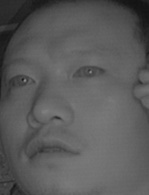eye: (70, 61, 105, 82), (6, 70, 38, 90)
mouth: (23, 132, 83, 165)
